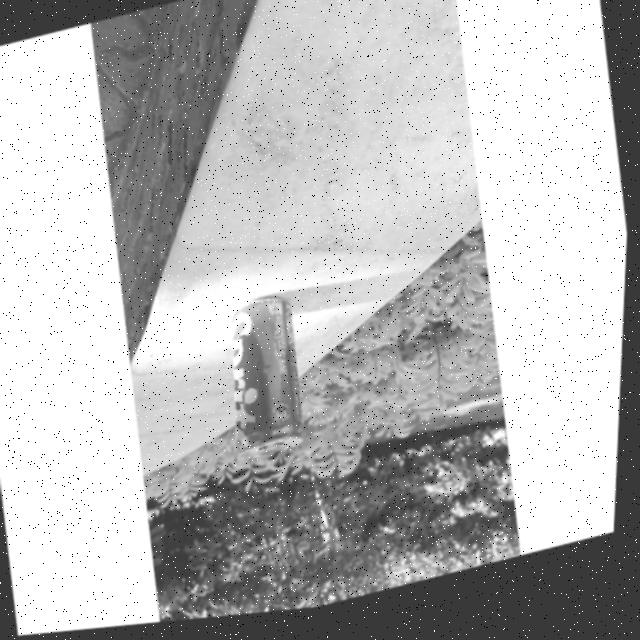Sprite: (224, 291, 316, 465)
